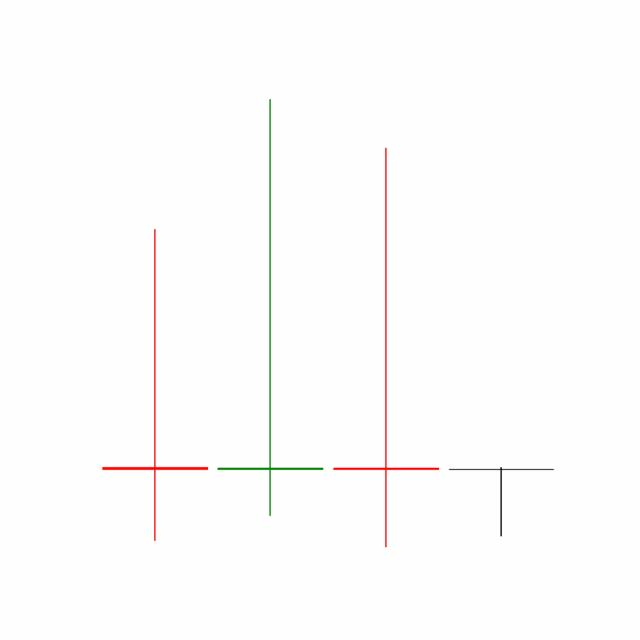Dragonfly Doji: (443, 465, 559, 537)
